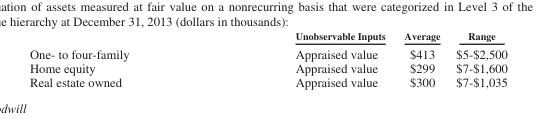table: (28, 29, 506, 88)
table column: (28, 29, 211, 88), (211, 29, 394, 88), (447, 29, 506, 88), (394, 29, 447, 88)
table column header: (28, 29, 506, 43)
table row: (28, 43, 506, 60), (28, 29, 506, 43), (28, 60, 506, 74), (28, 74, 506, 88)
